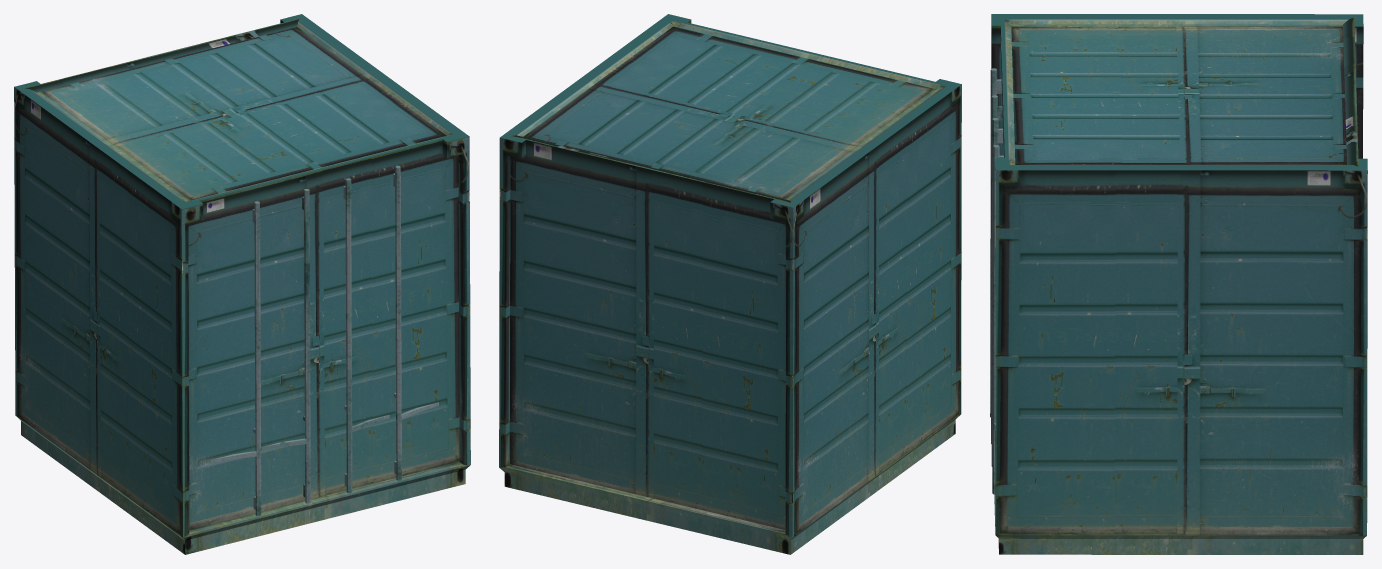
The model's file is Container_Small05.FBX.
The picture shows the model from 3 angles, left to right: view 1: azimuth 30°, elevation 25°; view 2: azimuth 150°, elevation 25°; view 3: azimuth 270°, elevation 25°; orthographic projection. The views are drawn at different scales.
Visible parts, largest first — view 1: Container_Small05; view 2: Container_Small05; view 3: Container_Small05.
Boxes of the visible parts, <box> form: Container_Small05: <box>14,14,470,554</box>; Container_Small05: <box>499,14,961,554</box>; Container_Small05: <box>990,14,1367,554</box>.
Bounding box in the file's own units: 98.64 × 113 × 99.96.
